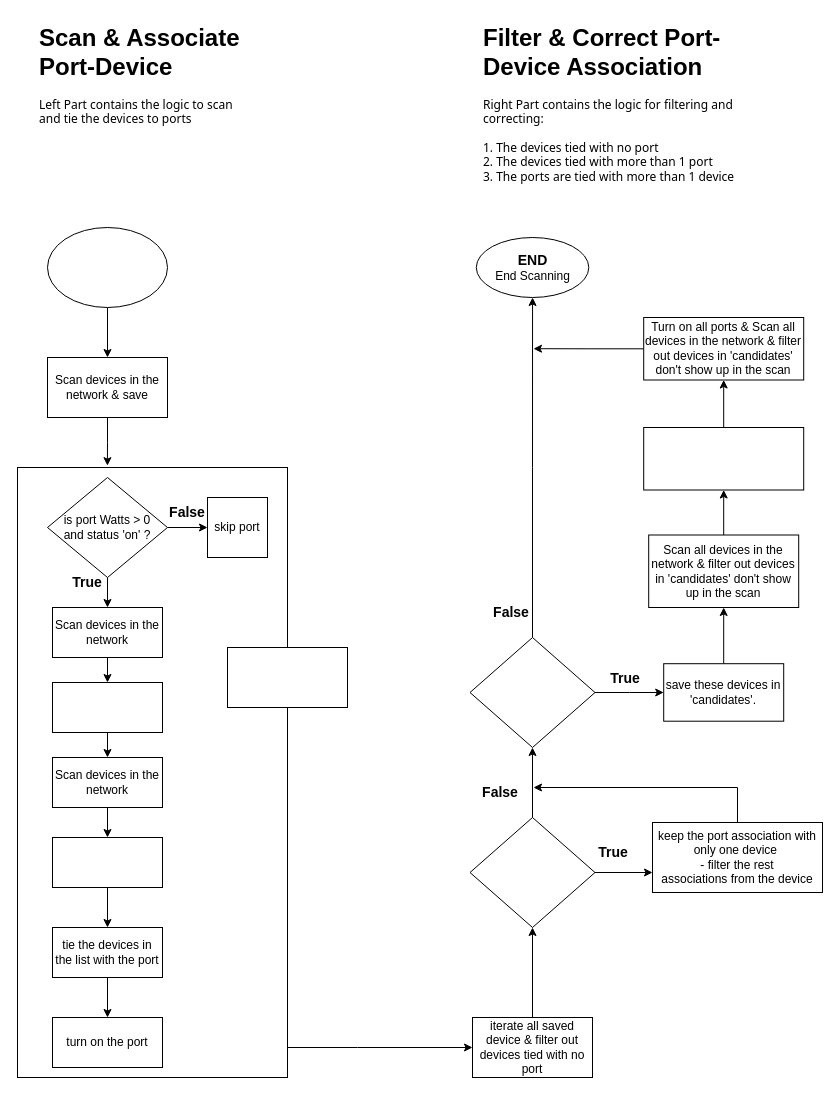
This 840x1095 diagram has some shape labels left out. The shapes that lost their labels are listed below. From the top down, each one's box as (x1, y1, x2, y2) in pixels, then its label:
(46, 226, 168, 308): START IP Scanner triggered
(643, 426, 804, 490): turn of all ports & scan -> delete 'candidates' show up in the the scan
(226, 646, 348, 708): Iterate all the ports
(469, 636, 595, 748): is port tied with more than 1 device ?
(52, 682, 162, 732): turn off the port
(52, 836, 162, 888): get difference of device list from last 2 scan
(469, 816, 595, 928): is device tied with more than 1 port ?
